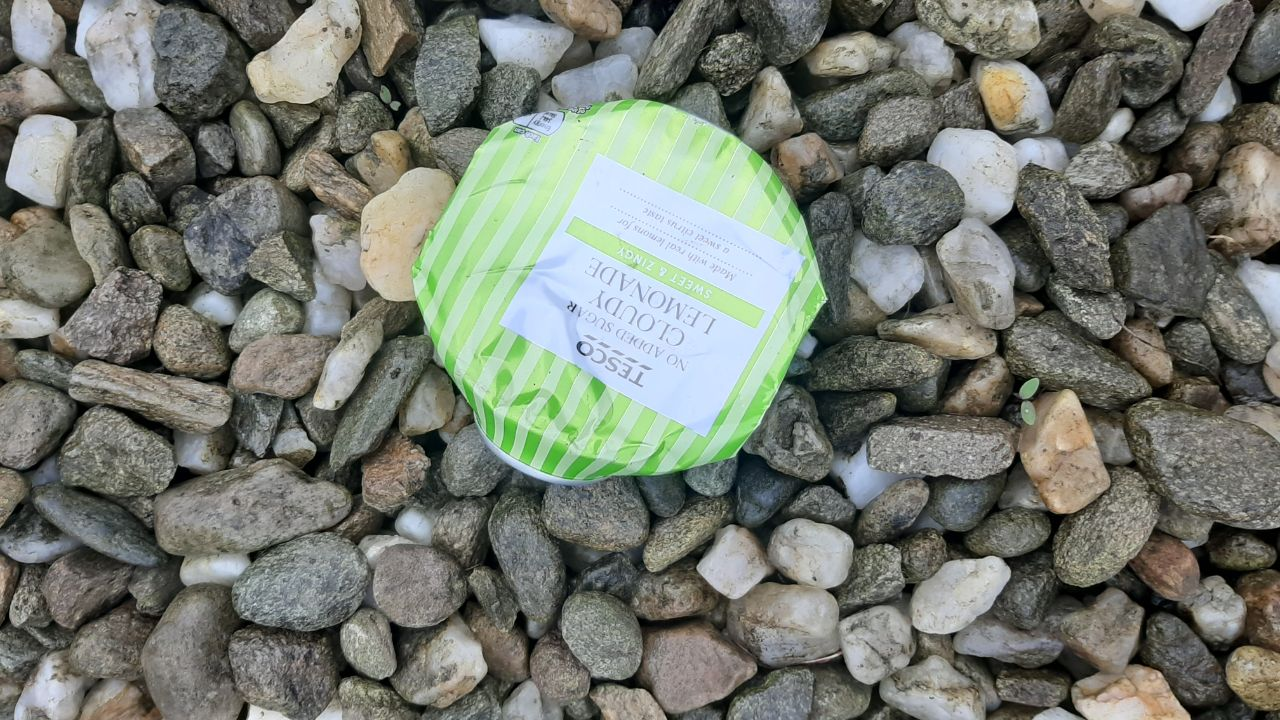Can: (414, 101, 831, 492)
